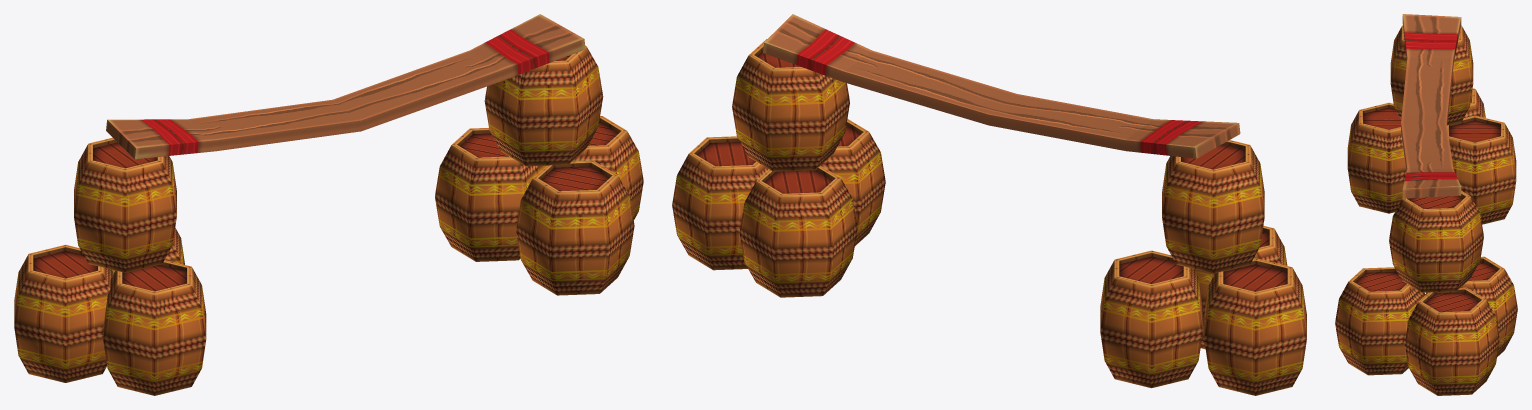
Rendered from Barrel_Obstacle.FBX.
The picture shows the model from 3 angles, left to right: view 1: azimuth 30°, elevation 25°; view 2: azimuth 150°, elevation 25°; view 3: azimuth 270°, elevation 25°; orthographic projection. The views are drawn at different scales.
Parts seen in each view (by area): view 1: Barrel_WoodBar, Line1511, Line1507, Barrel, Line007, Line1509, Line1510, Line1512; view 2: Barrel_WoodBar, Line1510, Line1508, Line007, Barrel, Line1509, Line1512, Line1511, Line1507; view 3: Barrel_WoodBar, Line1512, Line1509, Line1511, Line1508, Line1507, Barrel, Line1510, Line007.
Boxes of the visible parts, x1=… form: Barrel_WoodBar: x1=106, y1=14, x2=585, y2=159; Line1511: x1=516, y1=160, x2=634, y2=295; Line1507: x1=103, y1=260, x2=206, y2=395; Barrel: x1=74, y1=137, x2=176, y2=272; Line007: x1=14, y1=244, x2=113, y2=382; Line1509: x1=484, y1=45, x2=603, y2=166; Line1510: x1=435, y1=127, x2=545, y2=261; Line1512: x1=546, y1=116, x2=643, y2=220; Barrel_WoodBar: x1=763, y1=14, x2=1240, y2=158; Line1510: x1=739, y1=165, x2=857, y2=297; Line1508: x1=1100, y1=250, x2=1202, y2=388; Line007: x1=1204, y1=258, x2=1306, y2=395; Barrel: x1=1162, y1=140, x2=1264, y2=273; Line1509: x1=732, y1=39, x2=849, y2=171; Line1512: x1=672, y1=136, x2=768, y2=270; Line1511: x1=821, y1=118, x2=885, y2=246; Line1507: x1=1194, y1=225, x2=1287, y2=349; Barrel_WoodBar: x1=1401, y1=14, x2=1461, y2=198; Line1512: x1=1404, y1=287, x2=1499, y2=395; Line1509: x1=1389, y1=191, x2=1483, y2=292; Line1511: x1=1335, y1=267, x2=1425, y2=375; Line1508: x1=1447, y1=115, x2=1516, y2=224; Line1507: x1=1347, y1=102, x2=1406, y2=213; Barrel: x1=1390, y1=25, x2=1473, y2=125; Line1510: x1=1425, y1=256, x2=1517, y2=356; Line007: x1=1464, y1=88, x2=1485, y2=117.
Size of the model in its own units: 284 by 98.59 by 90.19.
